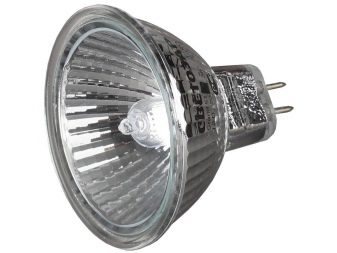Light_bulb: (109, 84, 176, 149)
